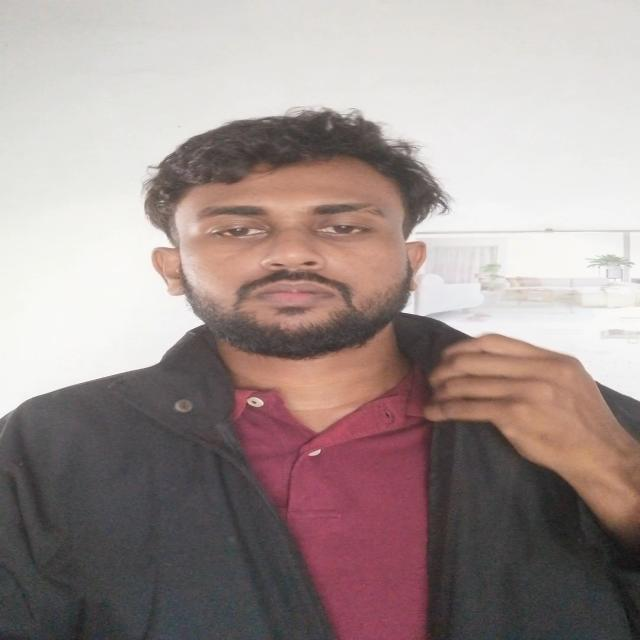Jacket_Wearer: (7, 290, 640, 640)
Person: (4, 102, 640, 640)
